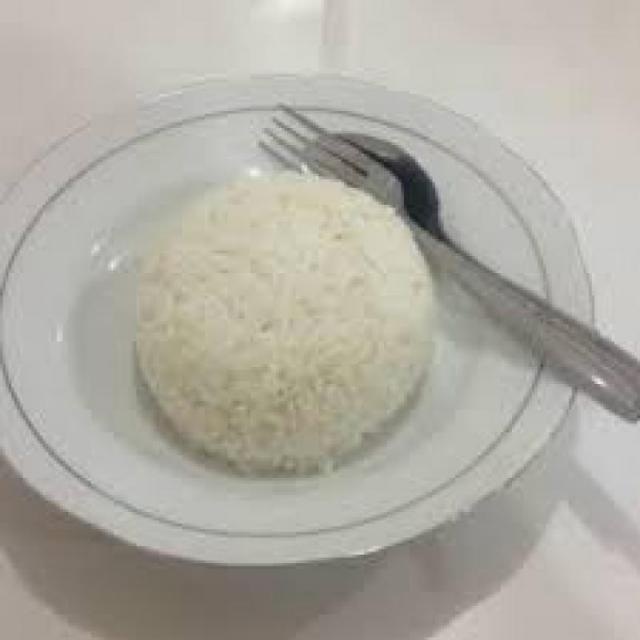Rice: (132, 169, 438, 478)
